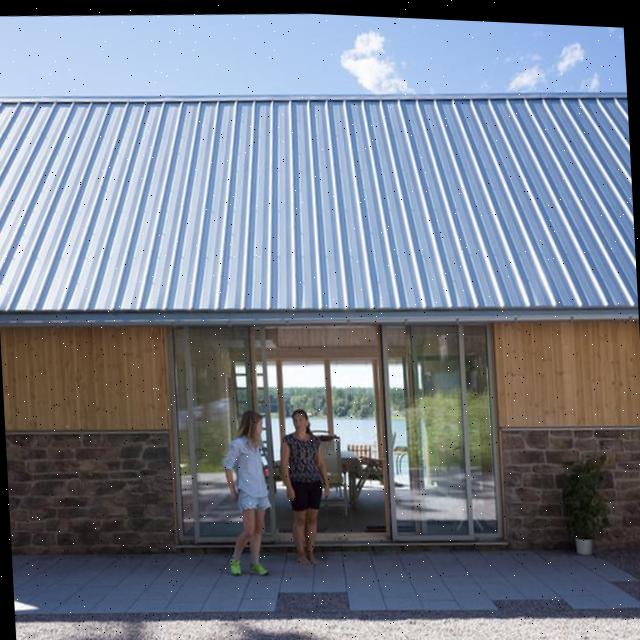building: (0, 63, 640, 587)
